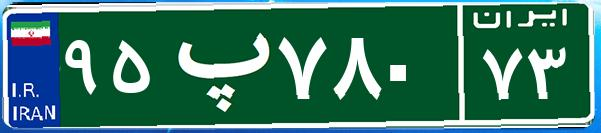0: (385, 28, 445, 110)
3: (525, 38, 570, 115)
5: (110, 28, 158, 105)
7: (273, 28, 330, 110), (475, 38, 525, 113)
8: (330, 28, 385, 110)
9: (57, 26, 110, 107)
پ: (158, 15, 273, 115)
